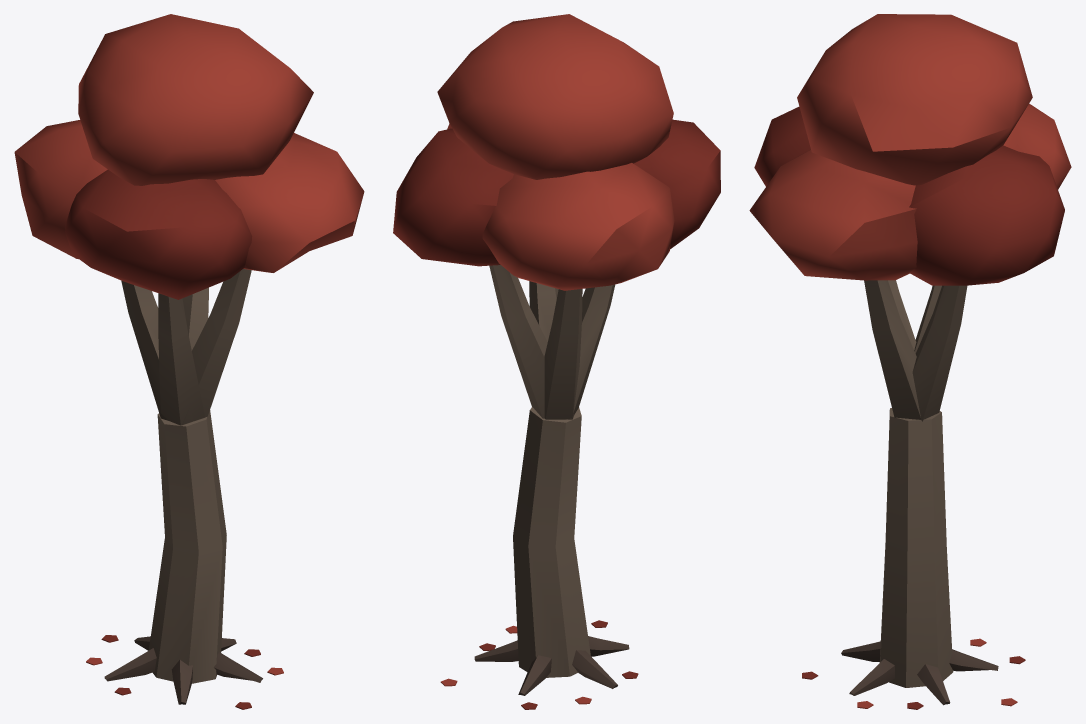
Rendered from tree_bloodmaple_s3.glb.
3 renders of one model, left to right at view 1: azimuth 30°, elevation 25°; view 2: azimuth 150°, elevation 25°; view 3: azimuth 270°, elevation 25°, orthographic. The views are drawn at different scales.
Visible parts, largest first — view 1: tree_bloodmaple_s3; view 2: tree_bloodmaple_s3; view 3: tree_bloodmaple_s3.
Boxes of the visible parts, x1,y1,x2,y2 form: tree_bloodmaple_s3: (14, 14, 364, 709); tree_bloodmaple_s3: (393, 14, 720, 709); tree_bloodmaple_s3: (749, 14, 1071, 709).
Bounding box in the file's own units: 1.74 × 3.97 × 1.8.
